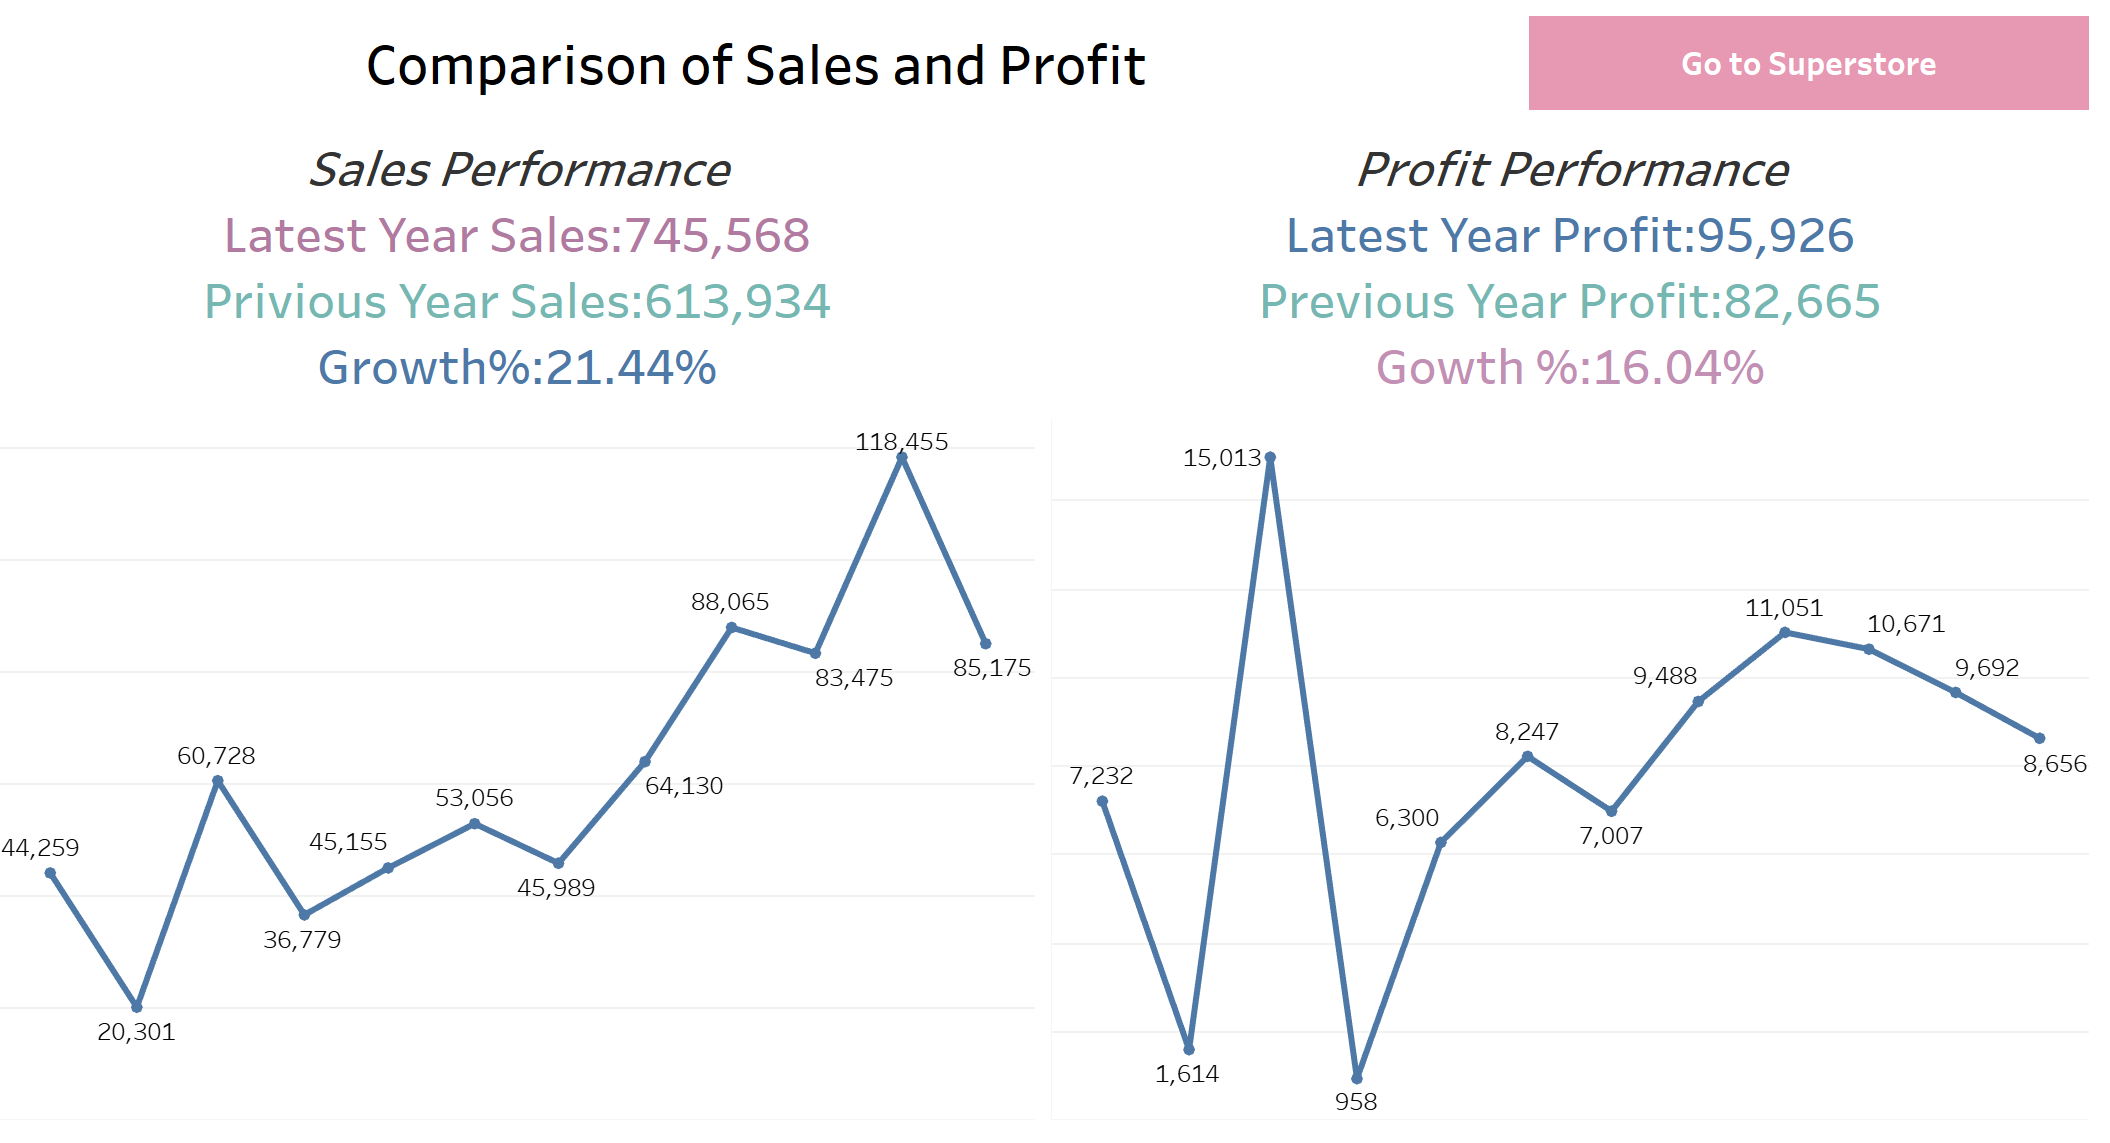

This screenshot's page, from the dashboard's own definition file:
{"tool":"tableau","page":{"name":"Dashboard 2","canvas":[1000,1000],"units":"permille","ordinal":1},"visuals":[{"type":"text","box":[7.2,13.9,716,95.1]},{"type":"dashboard-object","box":[723.2,13.9,269.6,95.1]},{"type":"worksheet","title":"Sales Performance","mark":"Automatic","rows":["Sales"],"cols":["Order Date"],"box":[7.2,109,491.9,877.1]},{"type":"worksheet","title":"Profit Performance","mark":"Automatic","rows":["Profit"],"cols":["Order Date"],"box":[499.1,109,493.7,877.1]}]}

Visuals, with their boxes on the dashboard's canvas, which has no fixed pixel size, in thousandths of its width and height (x1, y1, x2, y2). These are canvas units, not pixel positions in the 2110x1143 screenshot, which may show the page scaled, cropped or inside an application window:
text: 7/14/723/109
dashboard-object: 723/14/993/109
"Sales Performance" worksheet: 7/109/499/986
"Profit Performance" worksheet: 499/109/993/986
